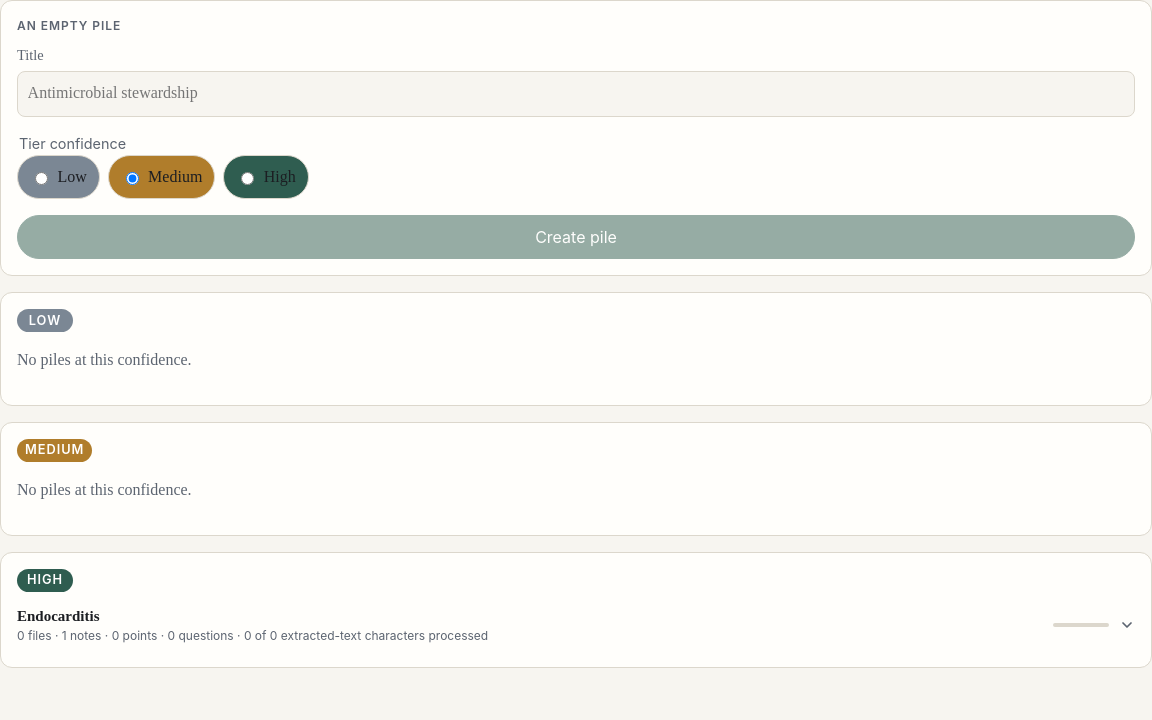
Scenario: failures that used to be silent › says a delete did not happen instead of dropping the rejection
Step 1. Click the button "Endocarditis" → (58, 616), box [17,600,1135,651]
(page scrolled)
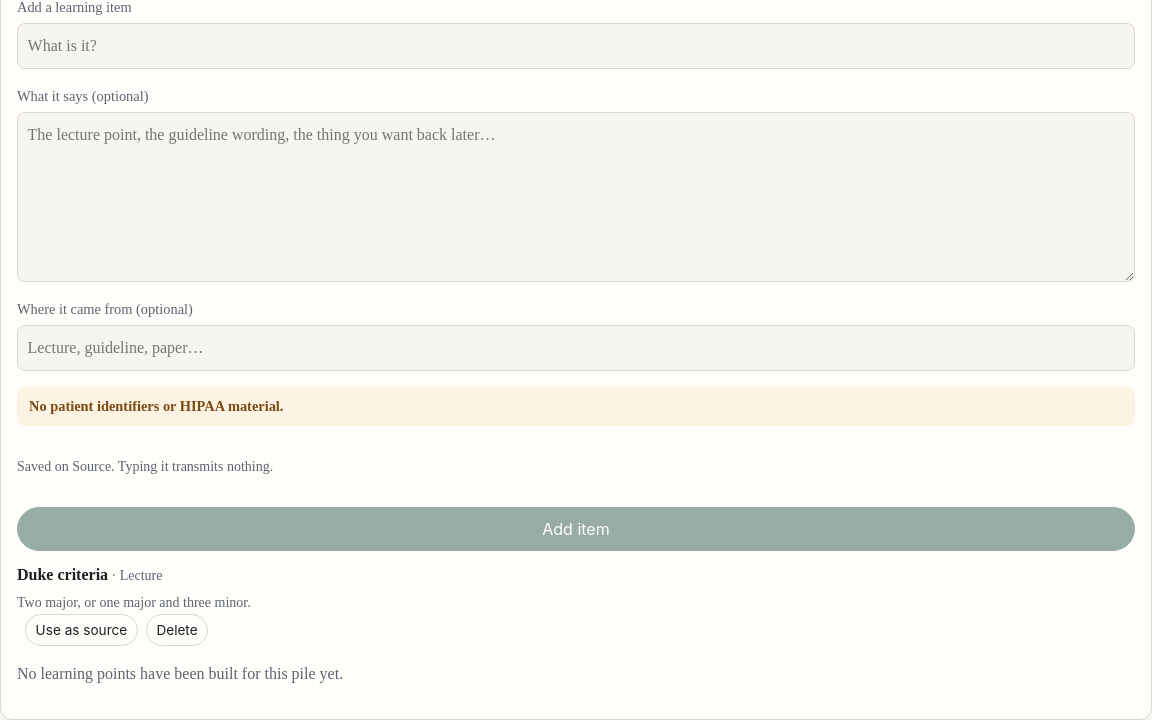
Step 2. Click the button "Delete" → (177, 630), box [146,614,208,646]
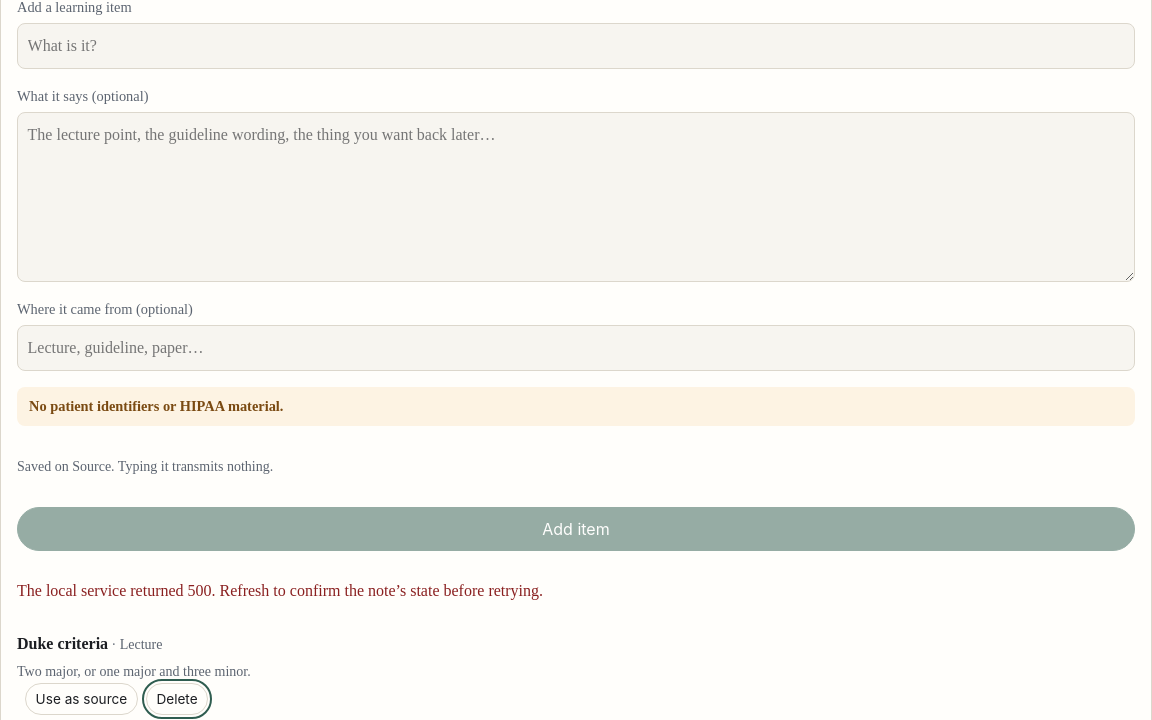
Expected: the text "Duke criteria" is shown, [17,635,108,652]
Expected: the message shows "Refresh to confirm", [216,582,543,599]
